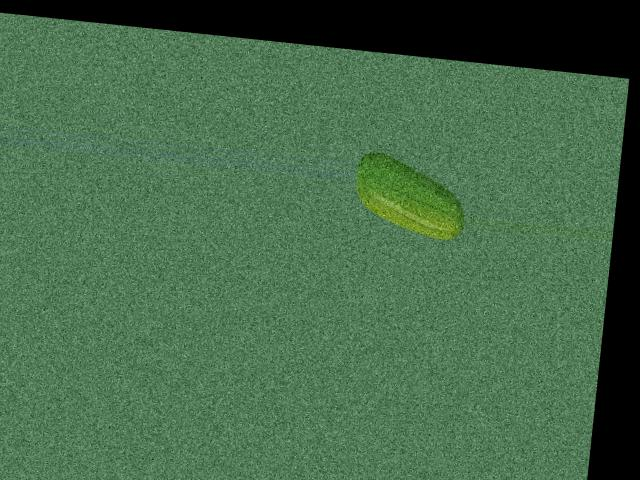cucumber: (350, 149, 470, 240)
